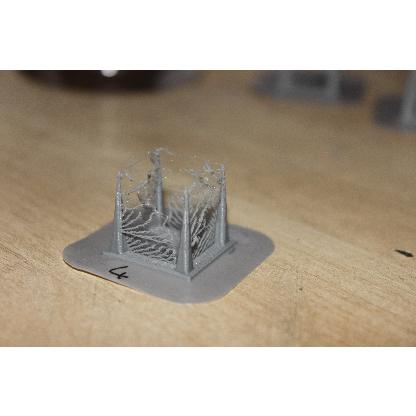fail: (124, 204, 176, 238), (192, 166, 223, 204)
